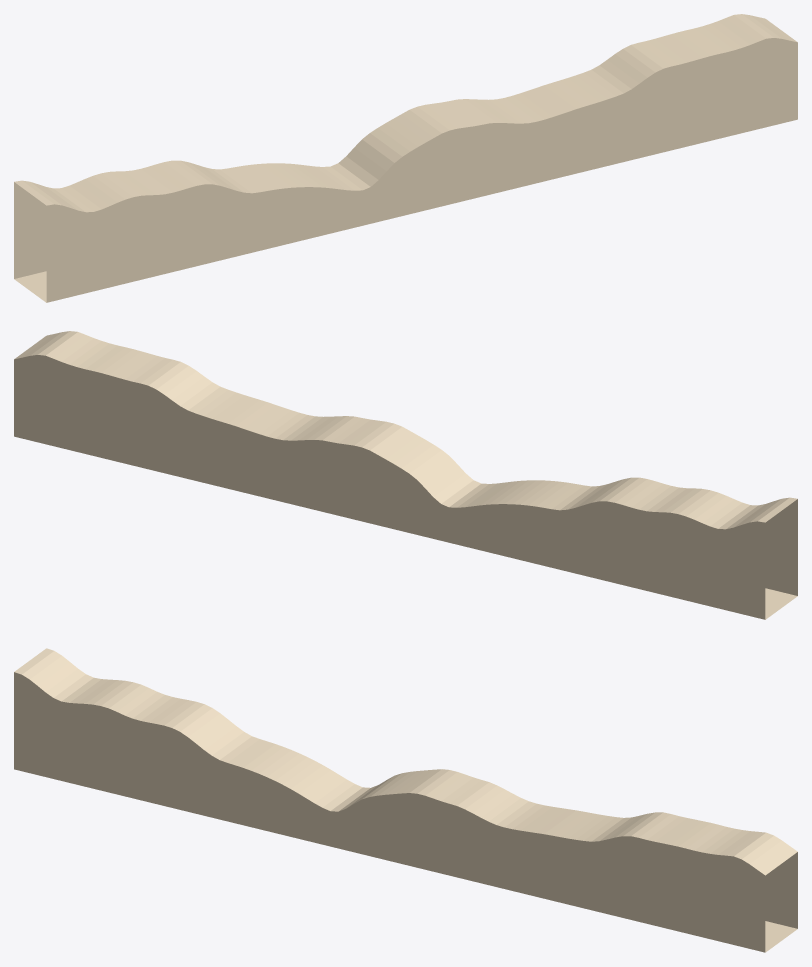
The model's file is backdrop_desert_far.glb.
3 renders of one model, top to bottom at view 1: azimuth 30°, elevation 25°; view 2: azimuth 150°, elevation 25°; view 3: azimuth 330°, elevation 25°, orthographic.
Parts seen in each view (by area): view 1: DesertFar; view 2: DesertFar; view 3: DesertFar.
Boxes of the visible parts, x1=… form: DesertFar: x1=14, y1=14, x2=797, y2=302; DesertFar: x1=14, y1=331, x2=797, y2=619; DesertFar: x1=14, y1=648, x2=797, y2=952.
Size of the model in its own units: 80 by 9.9 by 6.
